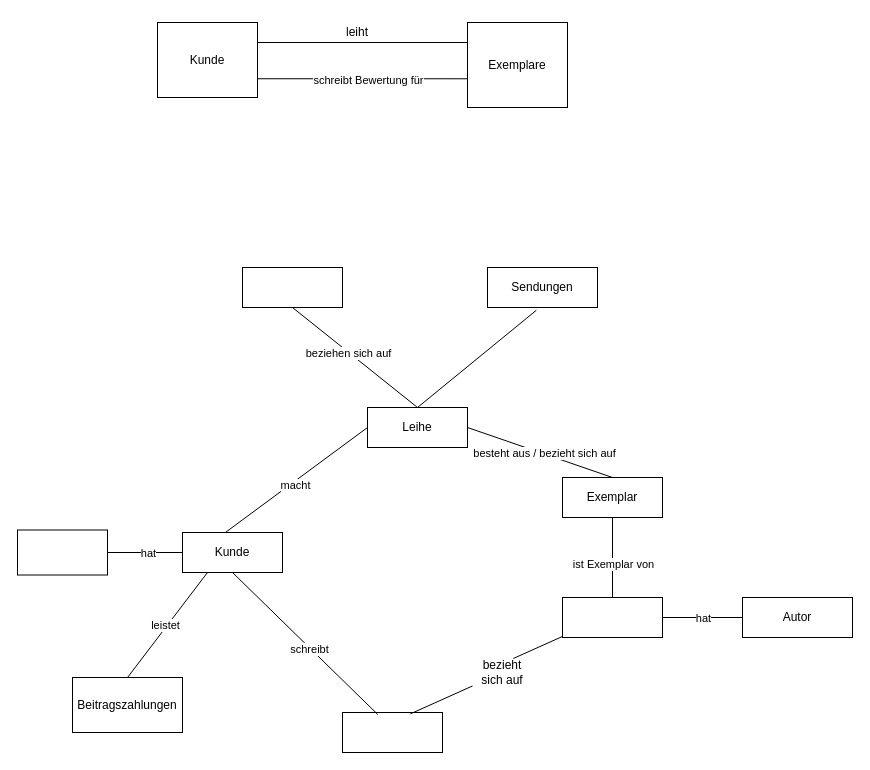
Some shapes in this 870 by 770 pixel diagram are drawn without their labels. The shapes that lost their labels are listed below. From the top down, each one's centre as x and y in pixels, then its label:
pixel 292 287: Zahlungen
pixel 62 552: Mitgliedsstatus
pixel 612 617: Titel
pixel 392 732: Bewertung
